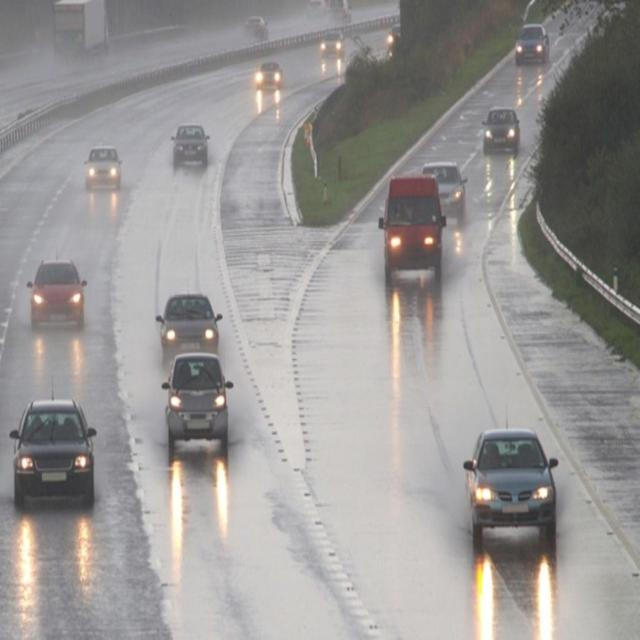Car: (463, 432, 560, 549), (10, 404, 101, 514), (23, 255, 90, 337), (156, 292, 222, 370), (420, 162, 467, 223), (82, 146, 124, 189), (170, 125, 210, 169), (483, 106, 521, 152), (513, 23, 549, 62), (254, 60, 286, 89), (320, 30, 344, 60), (242, 15, 268, 41), (326, 0, 351, 21), (304, 0, 326, 21), (388, 21, 403, 47)
Truck: (52, 0, 110, 68)
Van: (380, 173, 446, 281)
